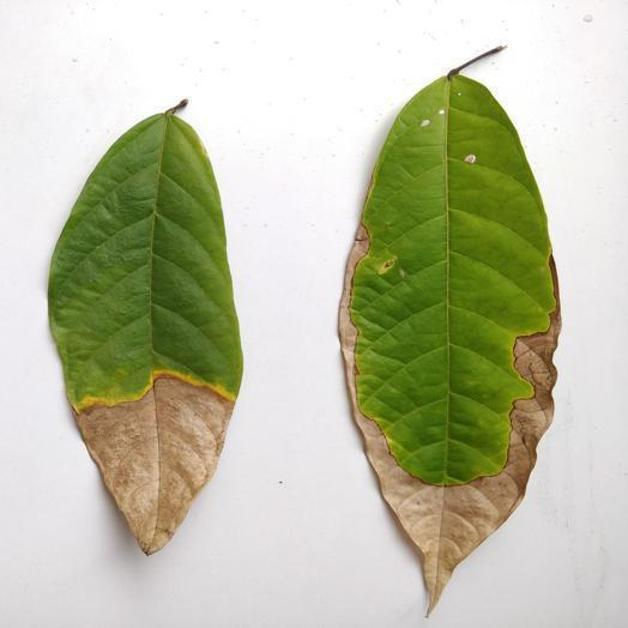Potassium: (340, 47, 559, 608), (49, 100, 242, 553)
